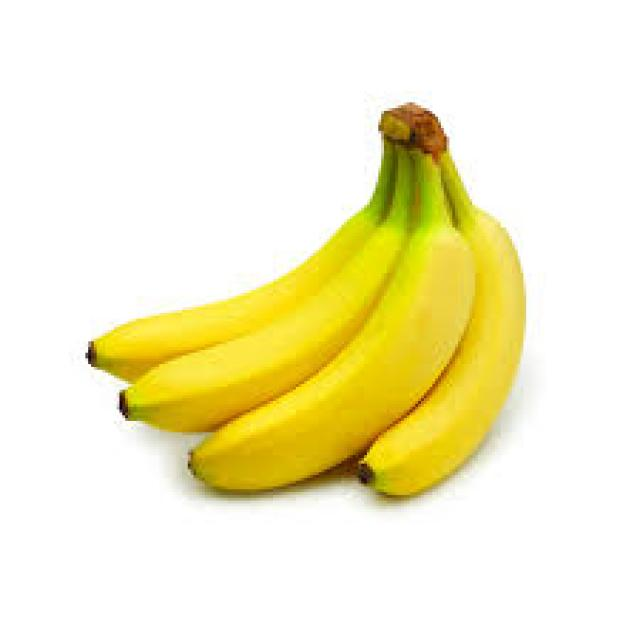Banana: (272, 283, 457, 485), (114, 268, 344, 333), (460, 235, 520, 454), (145, 327, 368, 369)
